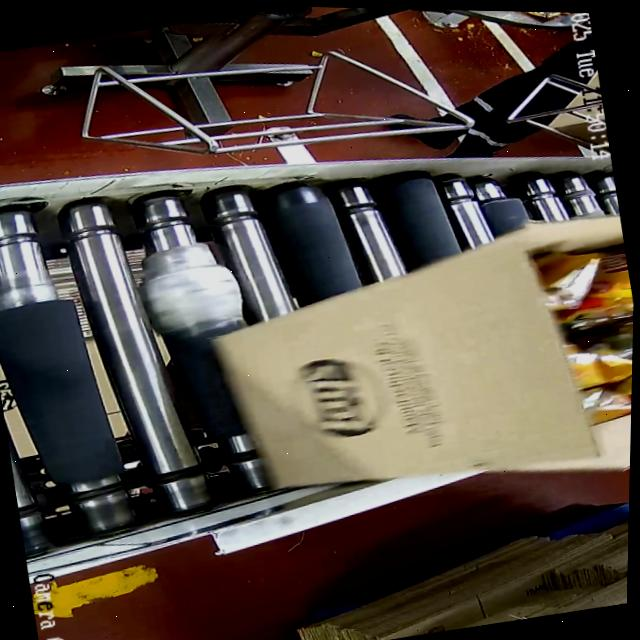FRENCH_CHEESE: (529, 232, 635, 427)
